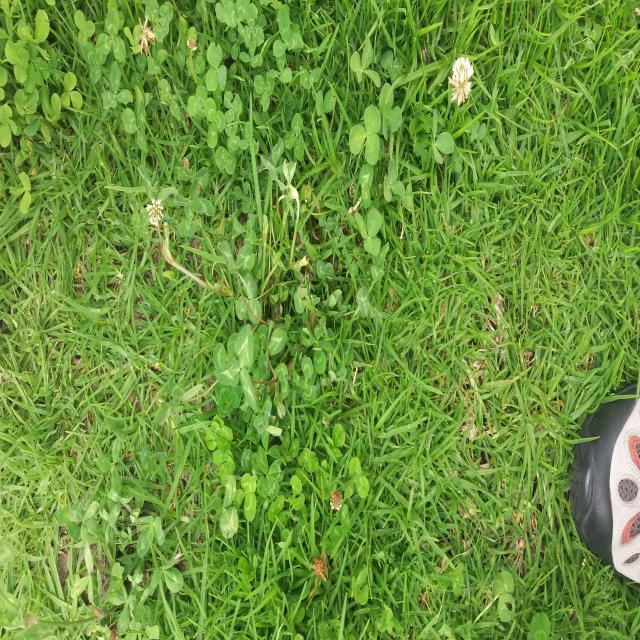Four Leaf Clover: (205, 415, 233, 450), (213, 452, 235, 486)
